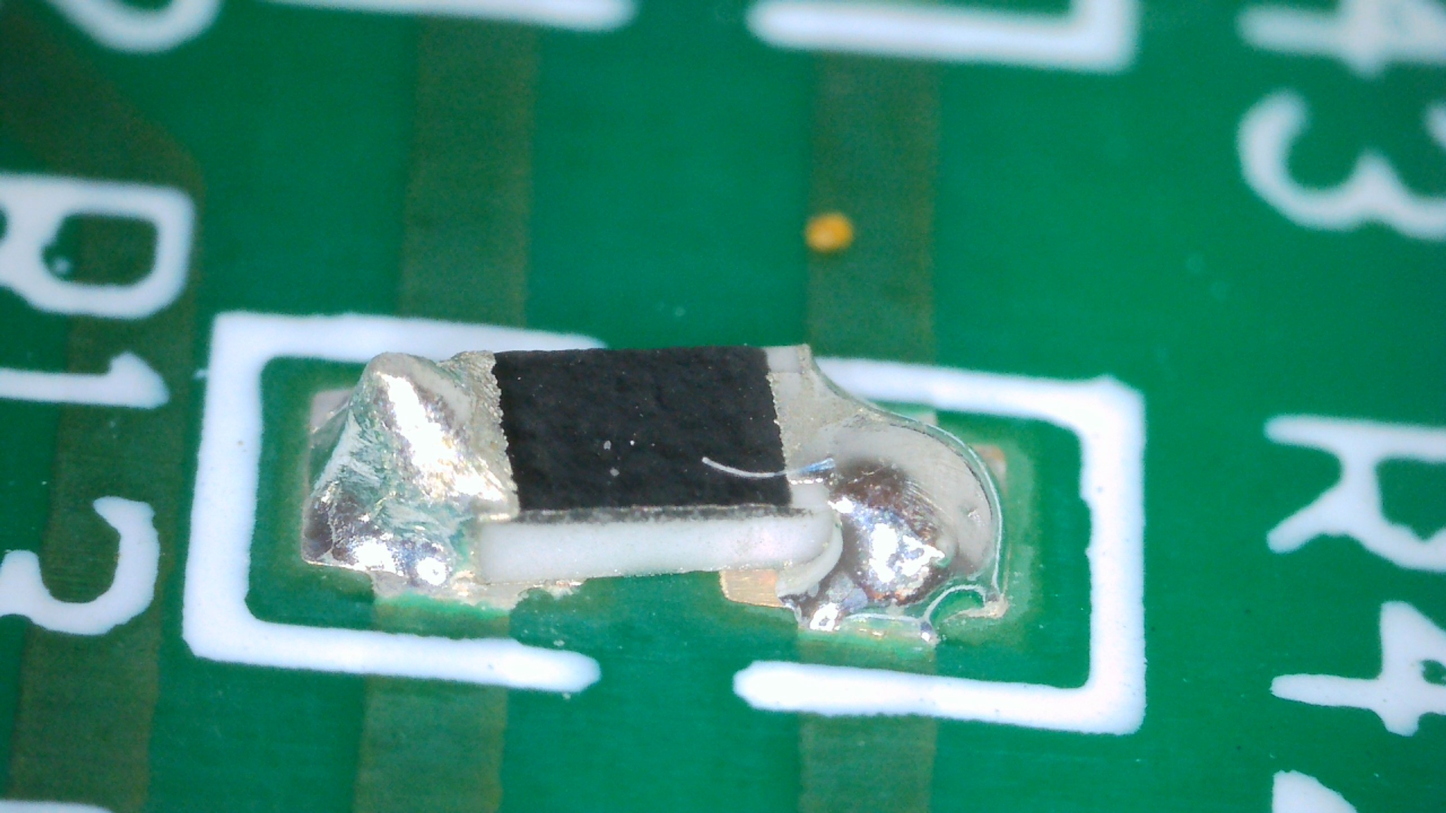NG: (766, 347, 1003, 647), (302, 353, 510, 582)
